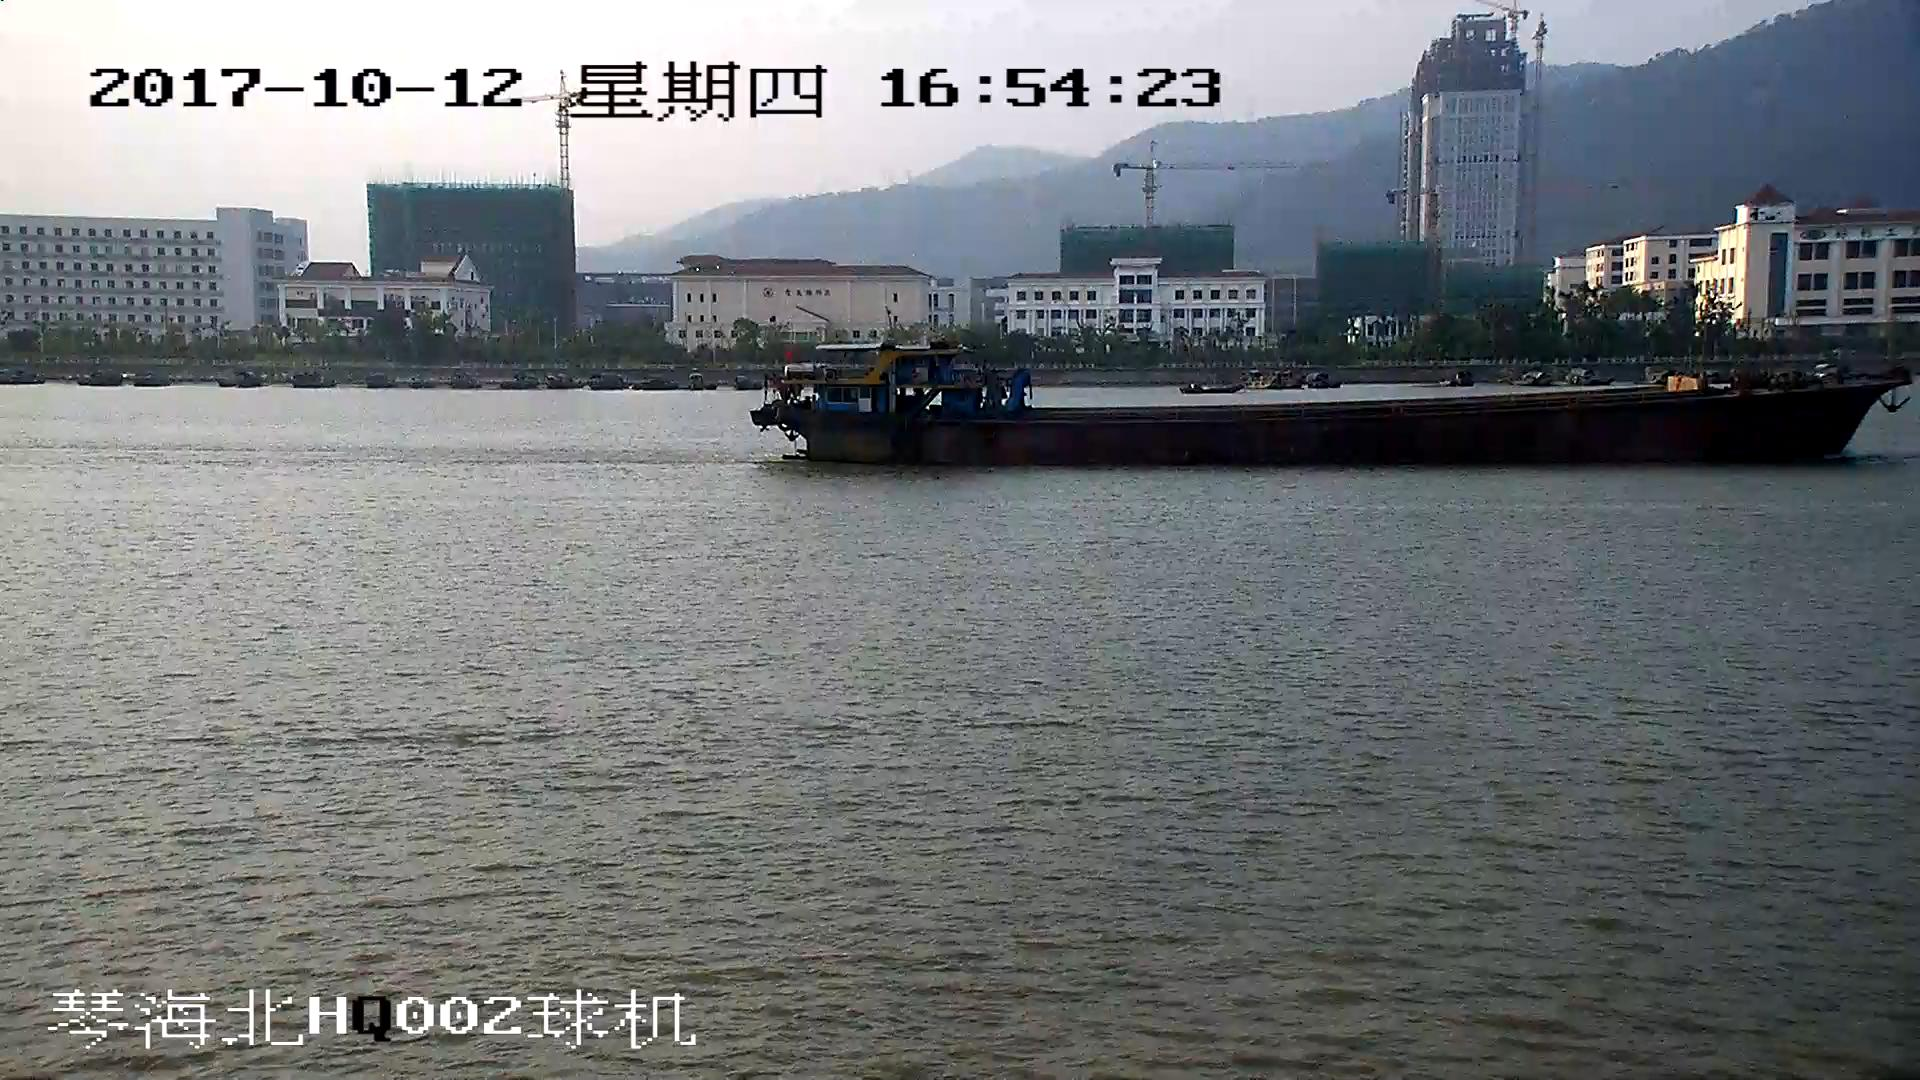bulk cargo carrier: (749, 334, 1889, 470)
